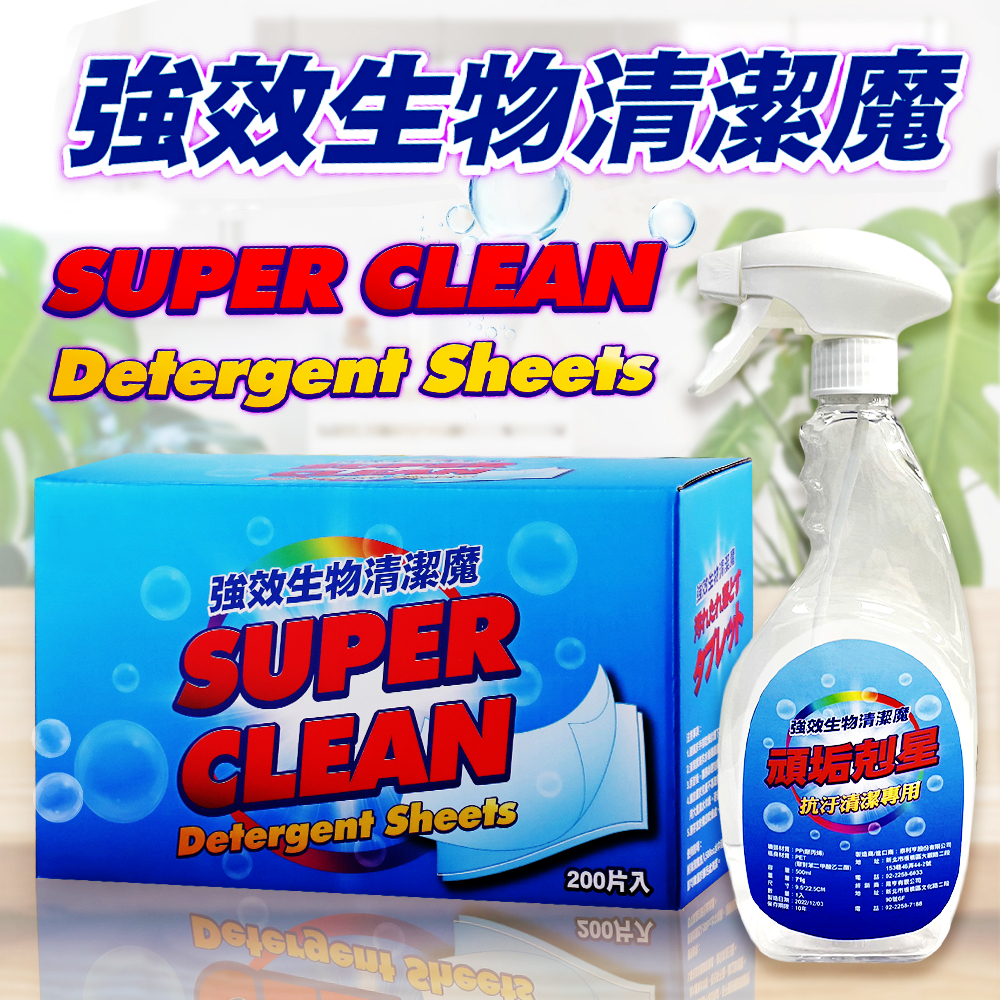cleaner: (674, 228, 976, 972)
